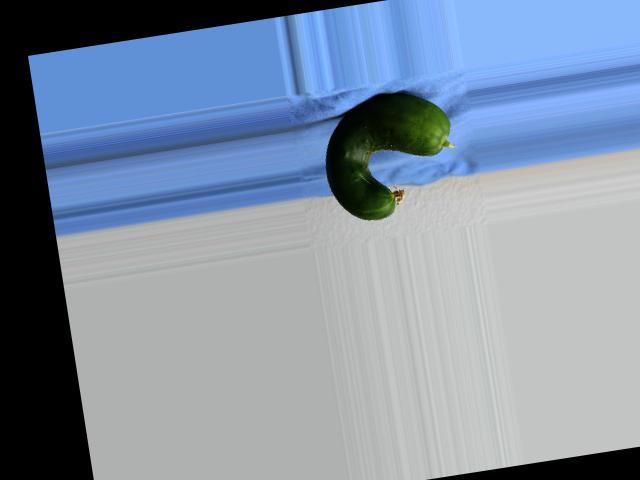cucumber: (316, 85, 463, 226)
